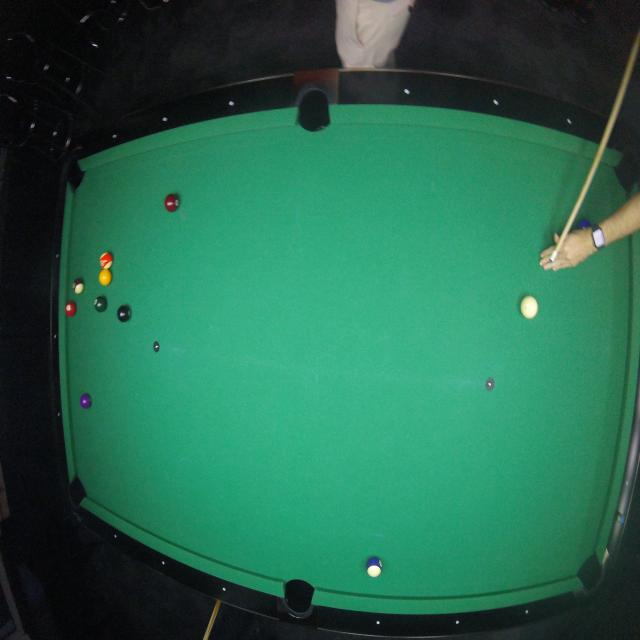cue ball: (519, 293, 540, 322)
other: (366, 552, 384, 582), (164, 192, 179, 213), (117, 303, 132, 323), (100, 250, 114, 270), (99, 268, 113, 287), (94, 295, 108, 313), (72, 278, 85, 295), (79, 393, 92, 409), (64, 301, 76, 317)
